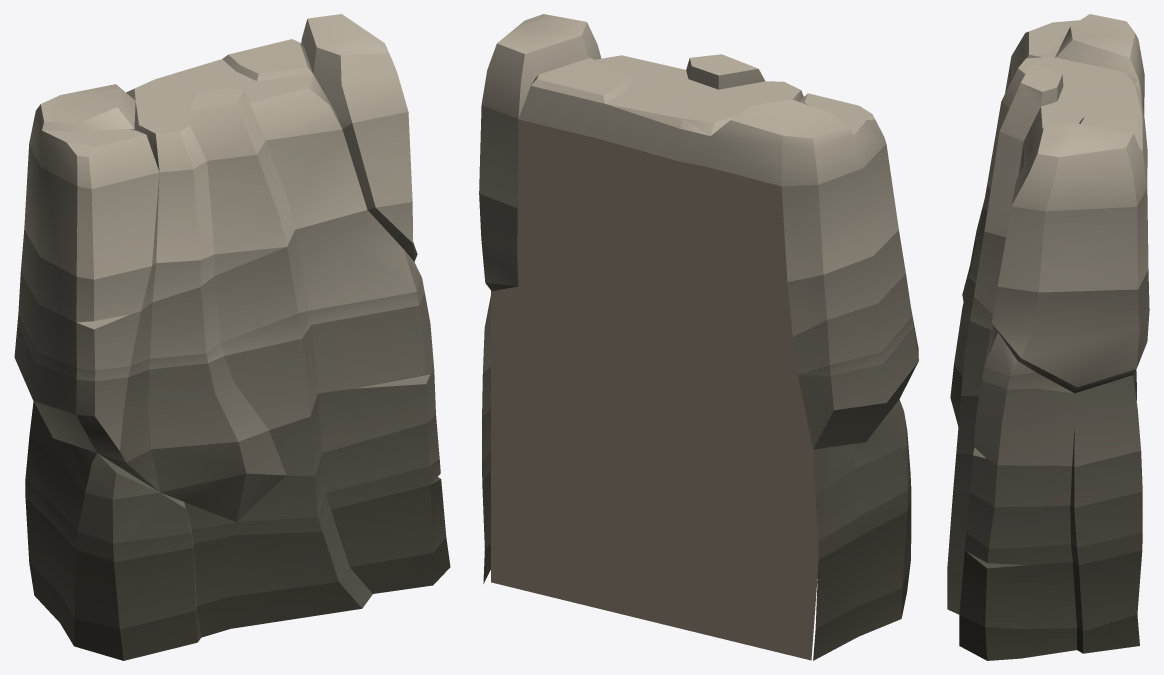
File: Canyon_Wall_1A.fbx
The picture shows the model from 3 angles, left to right: view 1: azimuth 30°, elevation 25°; view 2: azimuth 150°, elevation 25°; view 3: azimuth 270°, elevation 25°; orthographic projection. The views are drawn at different scales.
Visible parts, largest first — view 1: Canyon_Wall_1A; view 2: Canyon_Wall_1A; view 3: Canyon_Wall_1A.
Boxes of the visible parts, x1,y1,x2,y2 form: Canyon_Wall_1A: [14, 14, 450, 660]; Canyon_Wall_1A: [479, 14, 918, 660]; Canyon_Wall_1A: [947, 14, 1149, 660].
Size of the model in its own units: 2434 by 3149 by 1164.
